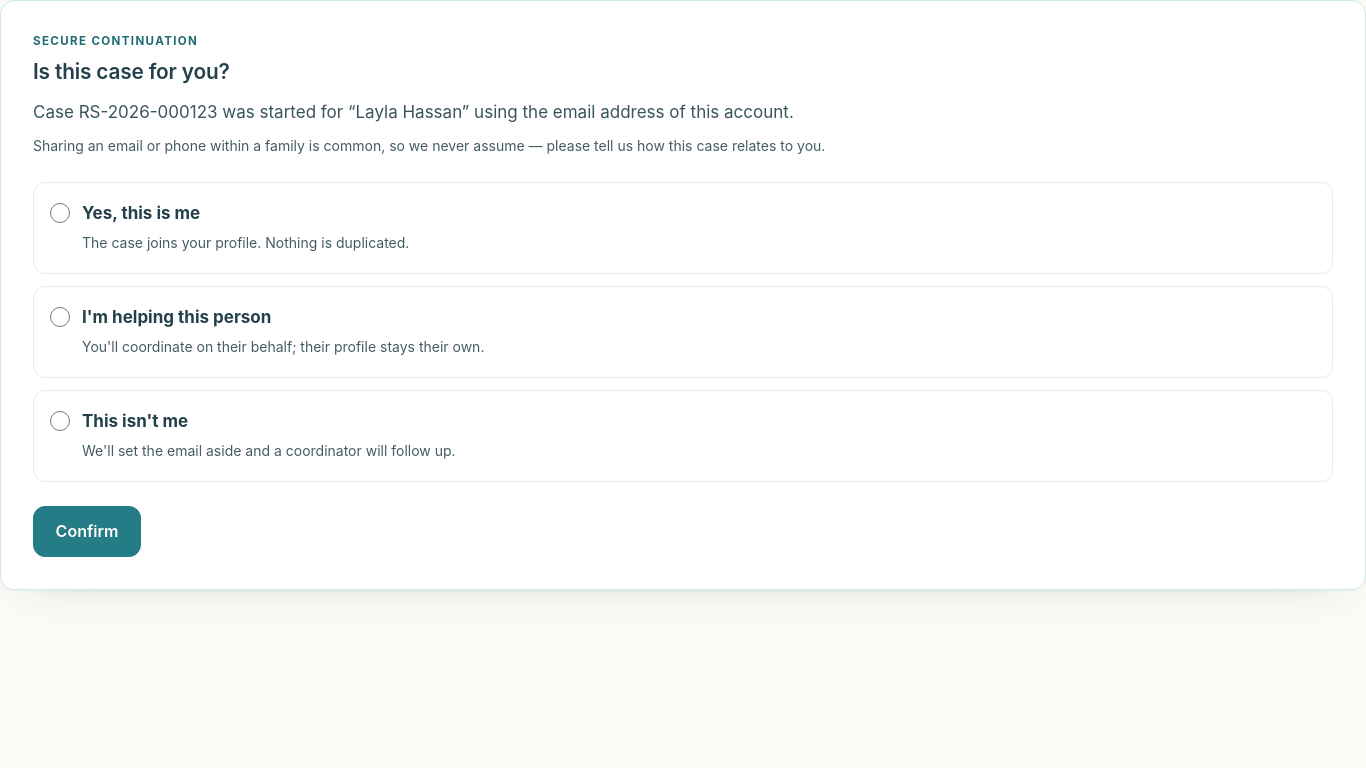
Test: AccountLinkRequest › confirms 'this is me' as SAME_PATIENT
The image size is (1366, 768).
Click the radio button labelled "Yes, this is me" at [60, 213], box [50, 203, 70, 223]
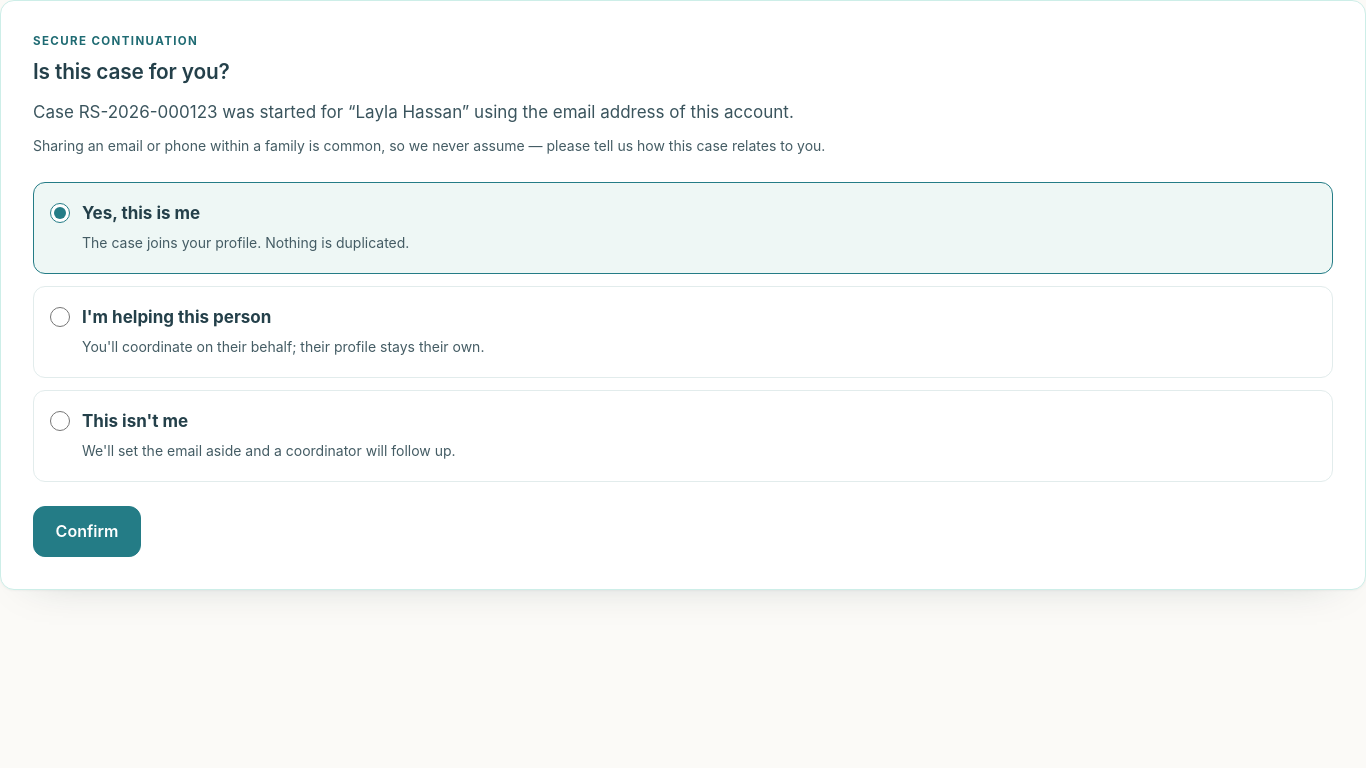
Click the button "Confirm" at [87, 531], box [33, 506, 141, 557]
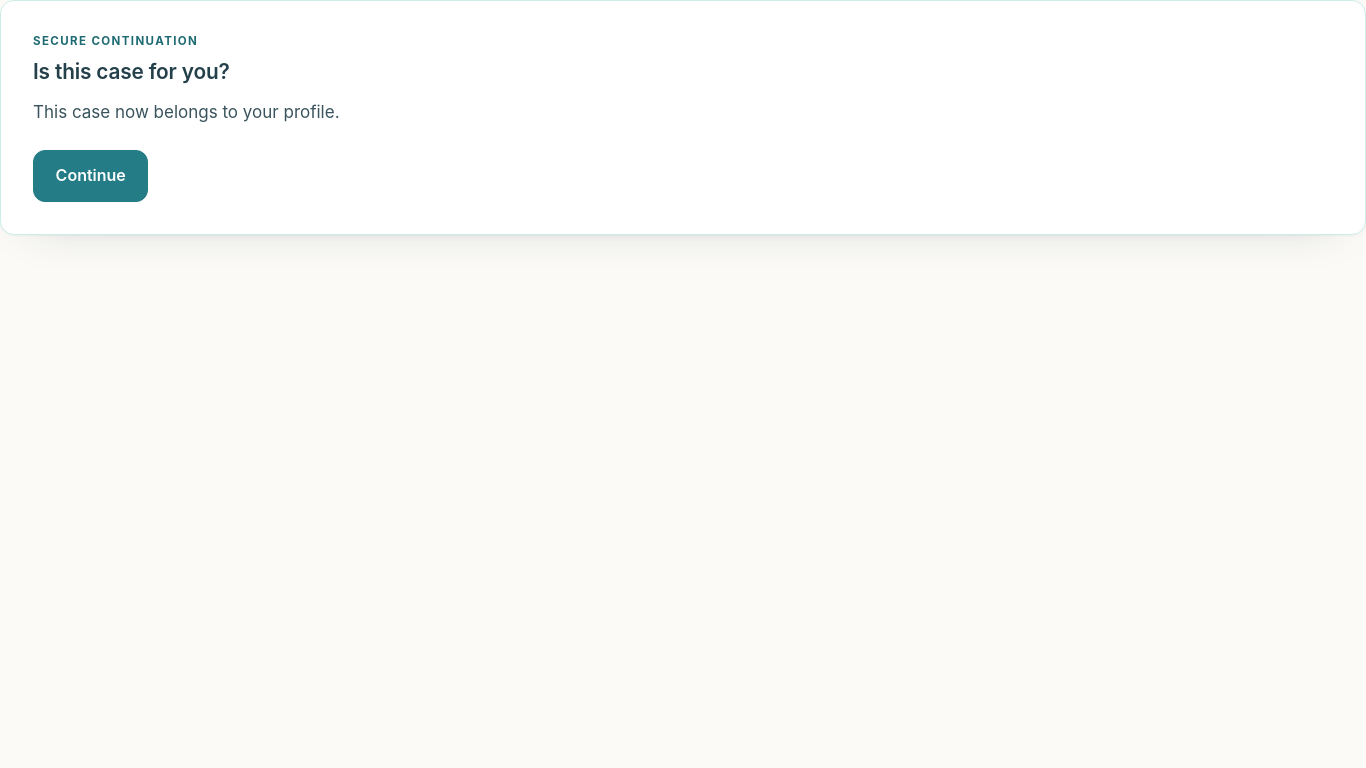
Expected: the text "This case now belongs to your profile." is shown, [33, 102, 340, 122]
